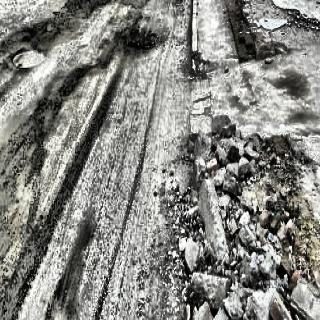pothole: (173, 123, 320, 320), (122, 25, 164, 56)
